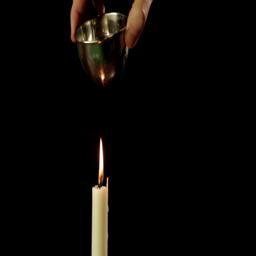fire: (98, 139, 104, 184)
